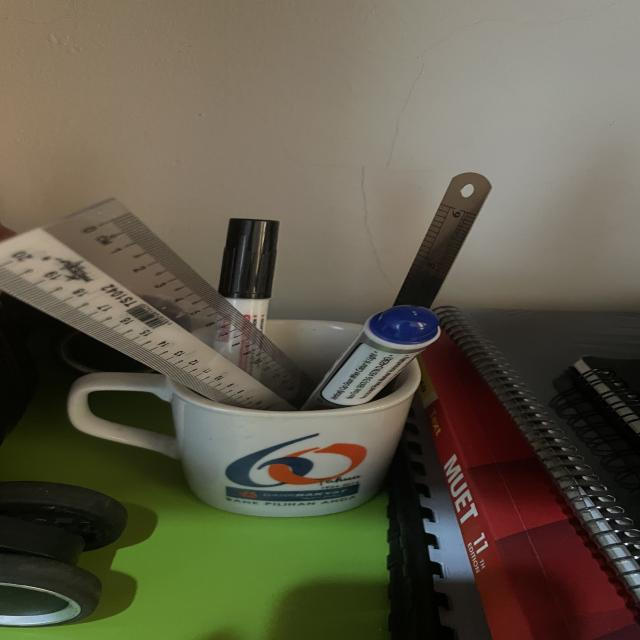marker: (303, 305, 440, 409), (218, 218, 279, 331), (438, 245, 438, 246)
ruler: (0, 199, 312, 411), (394, 173, 491, 307)
